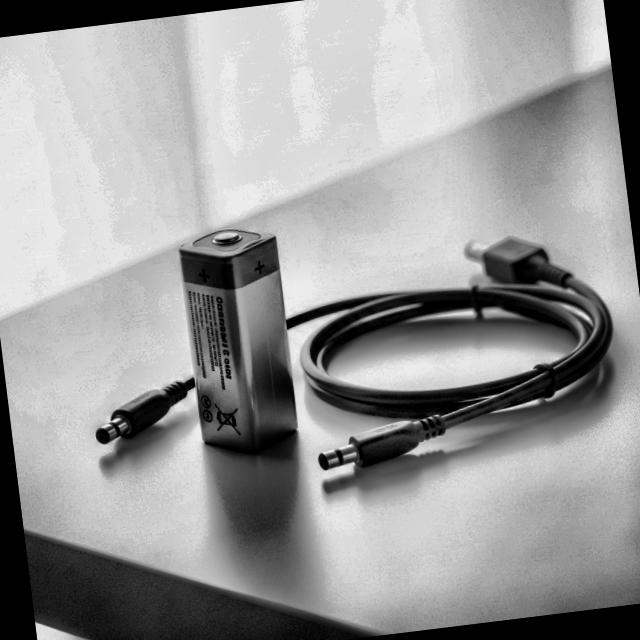Battery: (175, 219, 300, 460)
Cable: (280, 222, 628, 490), (88, 370, 198, 454)
